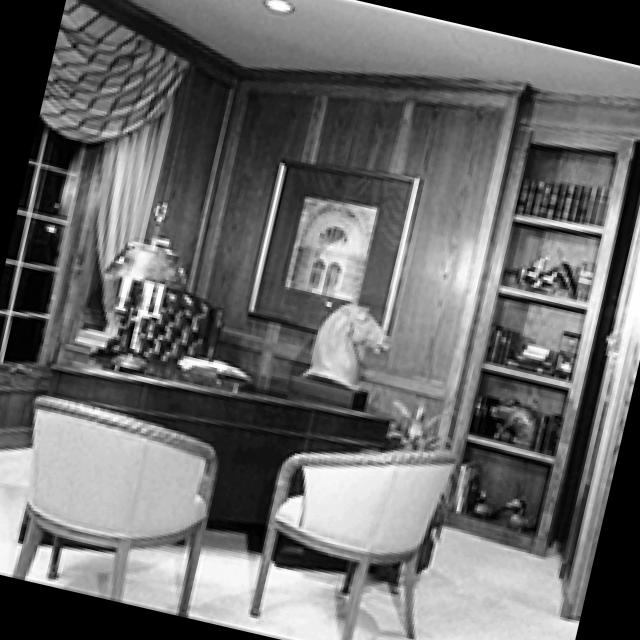2001: (0, 120, 89, 359)
book case: (176, 350, 246, 375)
books crop: (512, 171, 605, 226), (481, 318, 548, 371), (55, 325, 112, 364), (450, 455, 483, 505), (534, 408, 559, 450), (571, 257, 594, 293)
bookshelves: (435, 116, 640, 556)
ceiling beam: (137, 0, 640, 93)
ceiling lamps: (260, 0, 292, 13)
chair: (144, 290, 218, 366)
chair -occluded-: (9, 390, 215, 612), (246, 448, 449, 640)
curtain crop: (40, 0, 187, 265)
desk calendar: (41, 337, 390, 547)
lamp crop: (98, 235, 184, 374)
painting crop: (245, 154, 418, 332)
plant -x: (380, 391, 457, 445)
statue: (300, 301, 386, 379), (485, 389, 533, 442), (510, 249, 573, 289), (500, 491, 531, 526)
